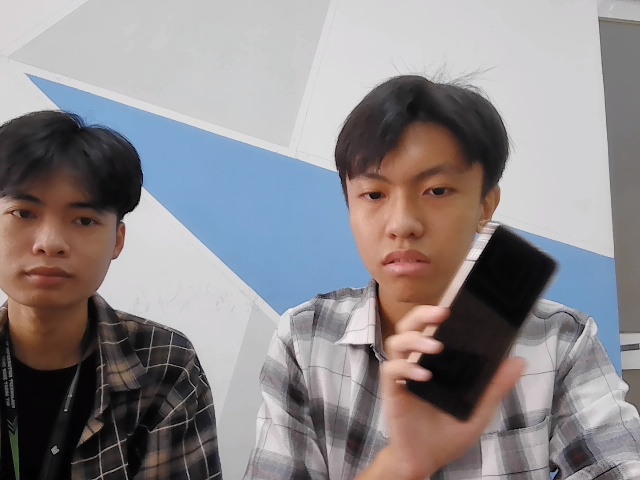human: (335, 82, 509, 306), (1, 113, 142, 306)
phone: (398, 221, 561, 428)
